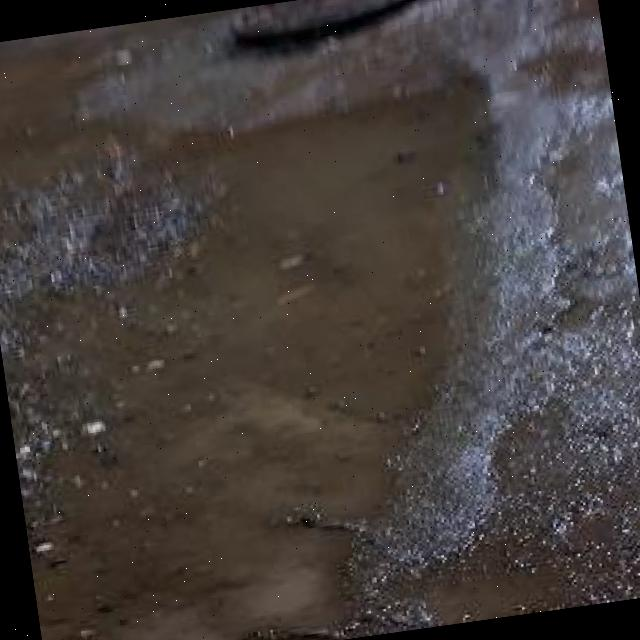waterlogging: (0, 0, 579, 640)
